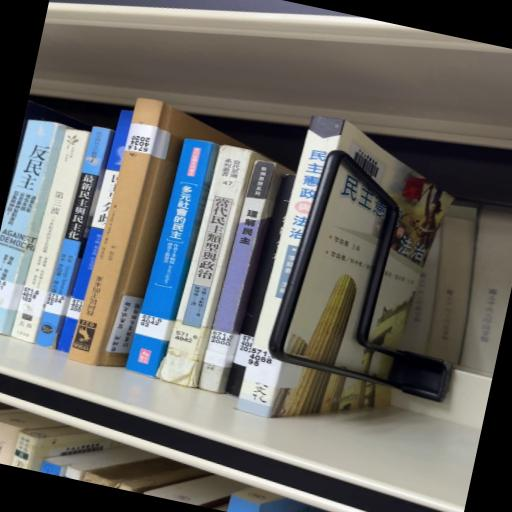reverse: (68, 98, 242, 366)
